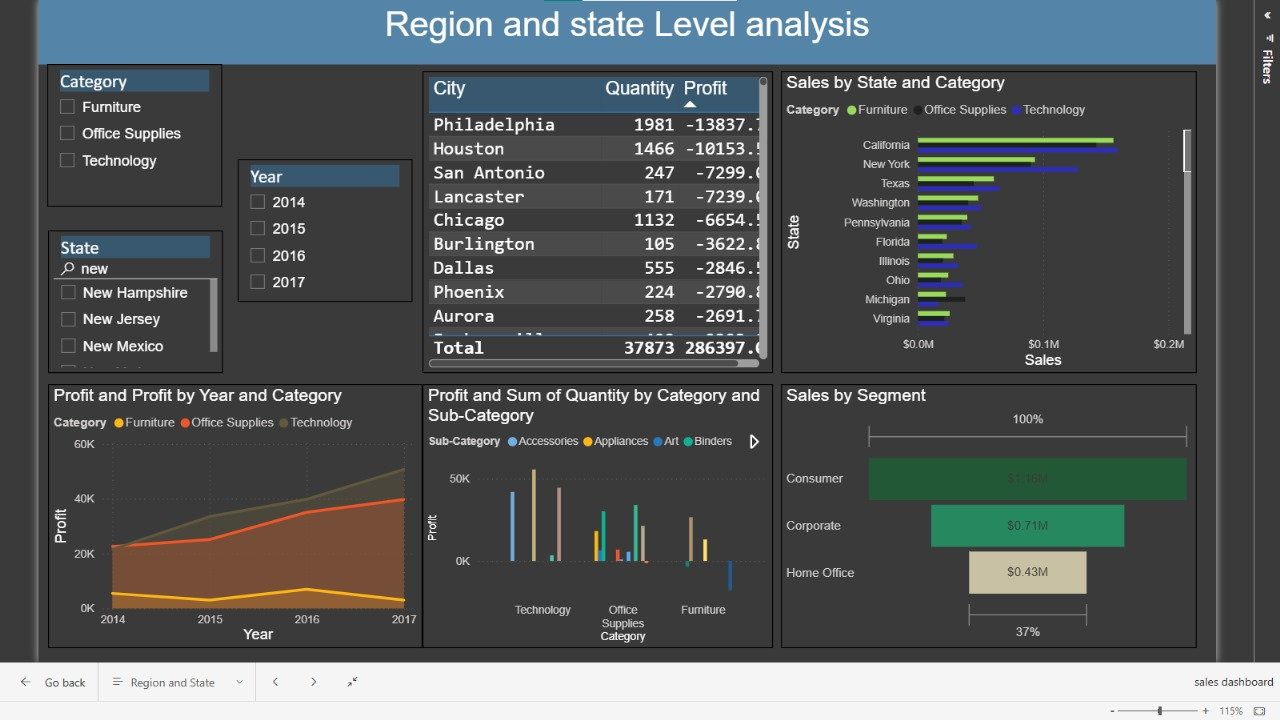

This screenshot's page, from the dashboard's own definition file:
{"tool":"powerbi","page":{"name":"Region and State","canvas":[1280,720],"ordinal":1},"visuals":[{"type":"textbox","box":[0,0,1280,69.9],"z":0},{"type":"slicer","fields":{"Values":["Orders.Category"]},"box":[9.3,69.9,190,155],"z":1000},{"type":"slicer","fields":{"Values":["Orders.State"]},"box":[10.3,250.6,190.3,154.9],"z":2000},{"type":"slicer","fields":{"Values":["Orders.Year"]},"box":[216.5,173.2,190.3,154.9],"z":3000},{"type":"tableEx","fields":{"Values":["Orders.City","Sum(Orders.Quantity)","Sum(Orders.Profit)"]},"box":[417,77.5,380.5,328.1],"z":4000},{"type":"clusteredBarChart","fields":{"Category":["Orders.State"],"Series":["Orders.Category"],"Y":["Sum(Orders.Sales)"]},"box":[806.6,77.5,452.3,328.1],"z":5000},{"type":"areaChart","fields":{"Category":["Orders.Year"],"Series":["Orders.Category"],"Y":["Sum(Orders.Profit)"]},"box":[10.3,417,406.7,287.1],"z":6000},{"type":"lineClusteredColumnComboChart","fields":{"Category":["Orders.Category"],"Series":["Orders.Sub-Category"],"Y":["Sum(Orders.Profit)"]},"box":[417,417,381,287],"z":7000},{"type":"funnel","fields":{"Category":["Orders.Segment"],"Y":["Sum(Orders.Sales)"]},"box":[807,417,452,287],"z":8000}]}

Visuals, with their boxes on the page's 1280x720 design canvas (x1, y1, x2, y2). These are canvas units, not pixel positions in the 1280x720 screenshot, which may show the page scaled, cropped or inside an application window:
textbox: 0/0/1280/70
slicer - Orders.Category: 9/70/199/225
slicer - Orders.State: 10/251/201/406
slicer - Orders.Year: 216/173/407/328
tableEx - Orders.City x Sum(Orders.Quantity): 417/78/798/406
clusteredBarChart - Orders.State x Orders.Category: 807/78/1259/406
areaChart - Orders.Year x Orders.Category: 10/417/417/704
lineClusteredColumnComboChart - Orders.Category x Orders.Sub-Category: 417/417/798/704
funnel - Orders.Segment x Sum(Orders.Sales): 807/417/1259/704
